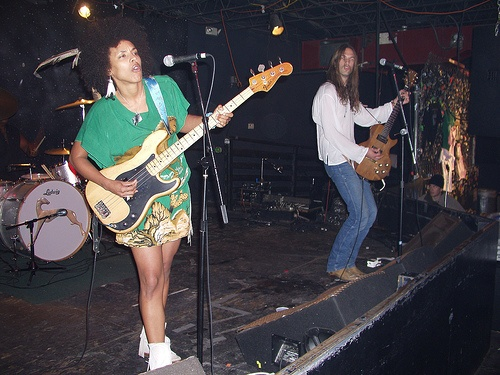person: (70, 16, 232, 375), (312, 45, 412, 282)
person/foot: (142, 331, 182, 361), (147, 345, 171, 370), (329, 268, 356, 281), (351, 264, 366, 277)
person/hand: (108, 180, 137, 200), (211, 105, 234, 130), (367, 148, 386, 161), (395, 90, 410, 105)
person/head: (82, 21, 152, 85), (331, 46, 357, 80)
